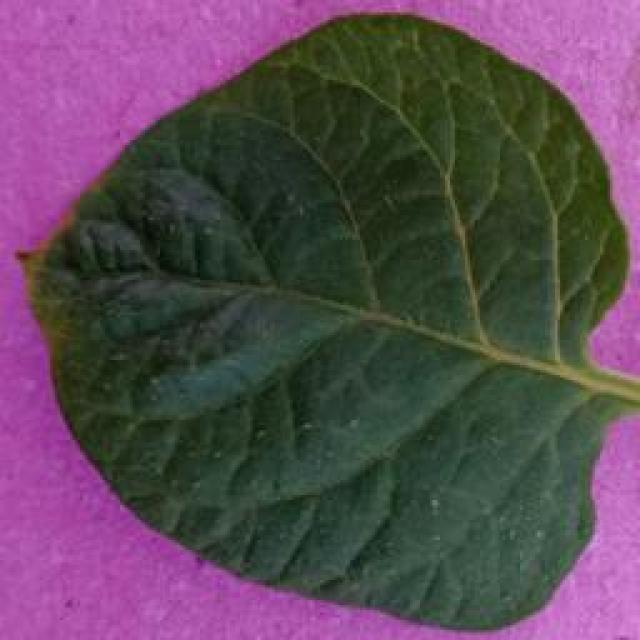Potato_Healthy: (15, 11, 626, 626)
